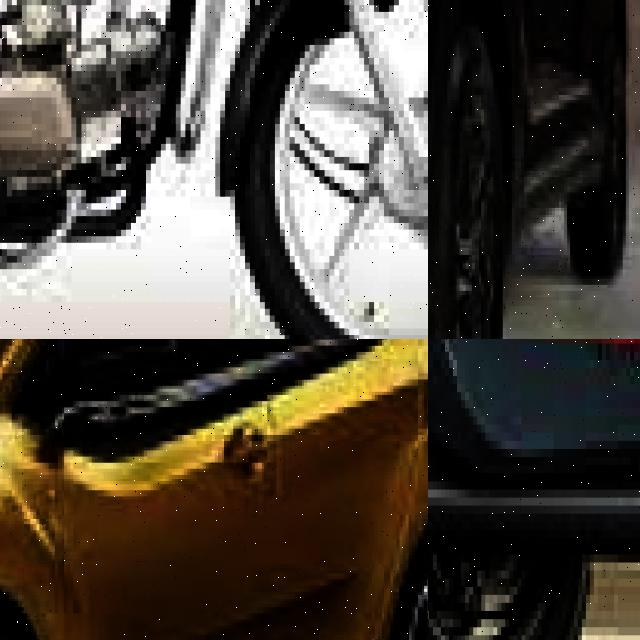bike: (0, 0, 428, 339), (428, 339, 640, 640)
car: (0, 339, 428, 640), (428, 0, 622, 339)
